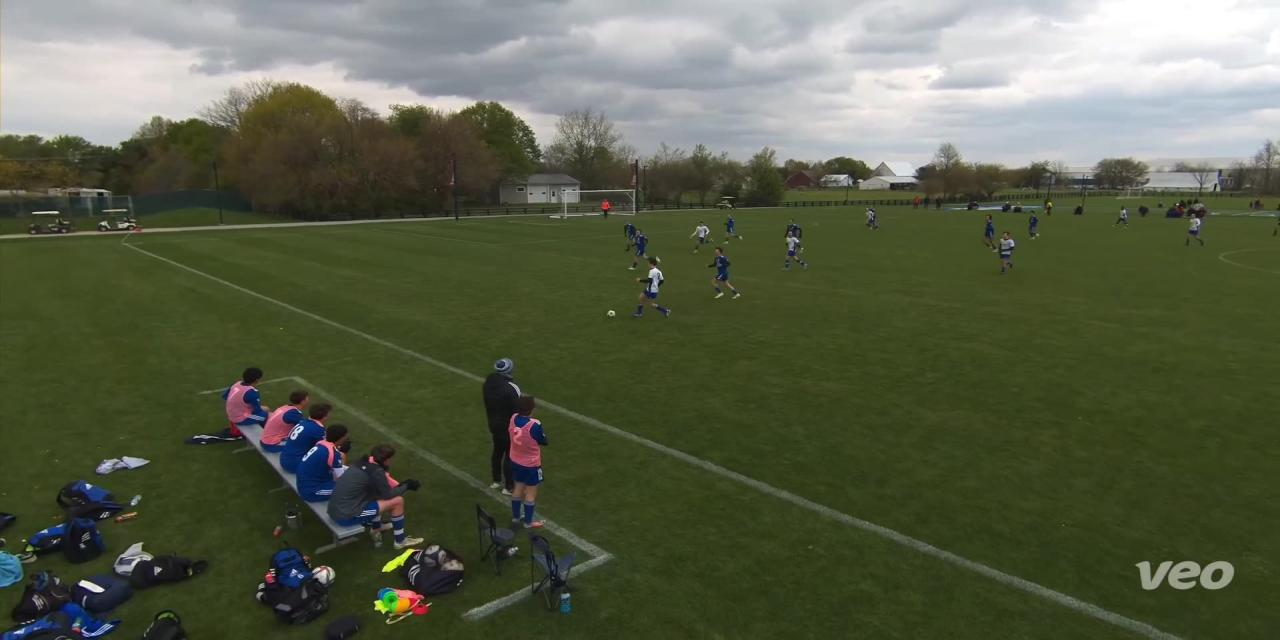goal: (550, 182, 646, 225)
sports ball: (604, 303, 623, 323)
